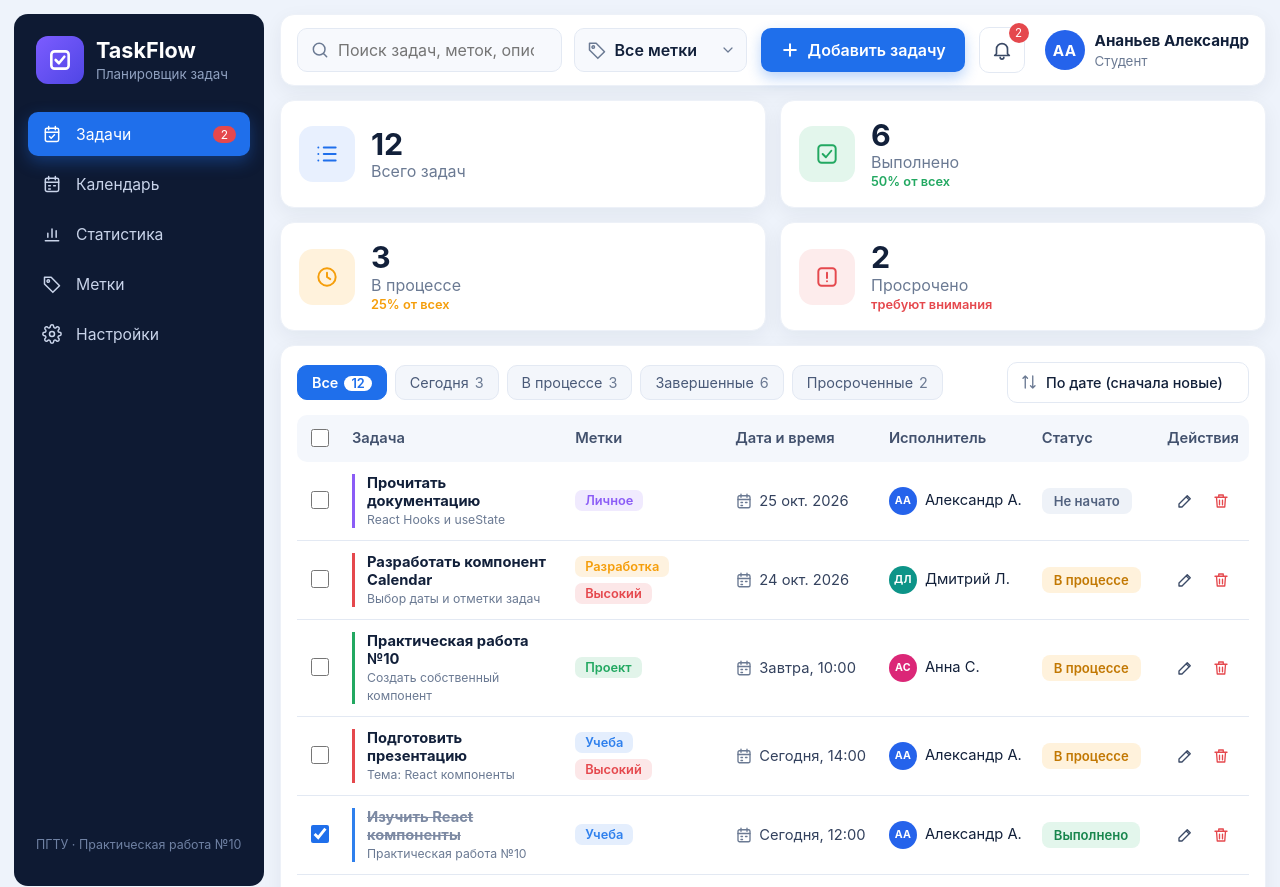
it: App › загружает задачи, добавляет и удаляет задачу
Check: the text "Подготовить презентацию" is shown, box [367,729,467,765]
Click the button "Добавить задачу" at (863, 50), box [760,28,965,72]
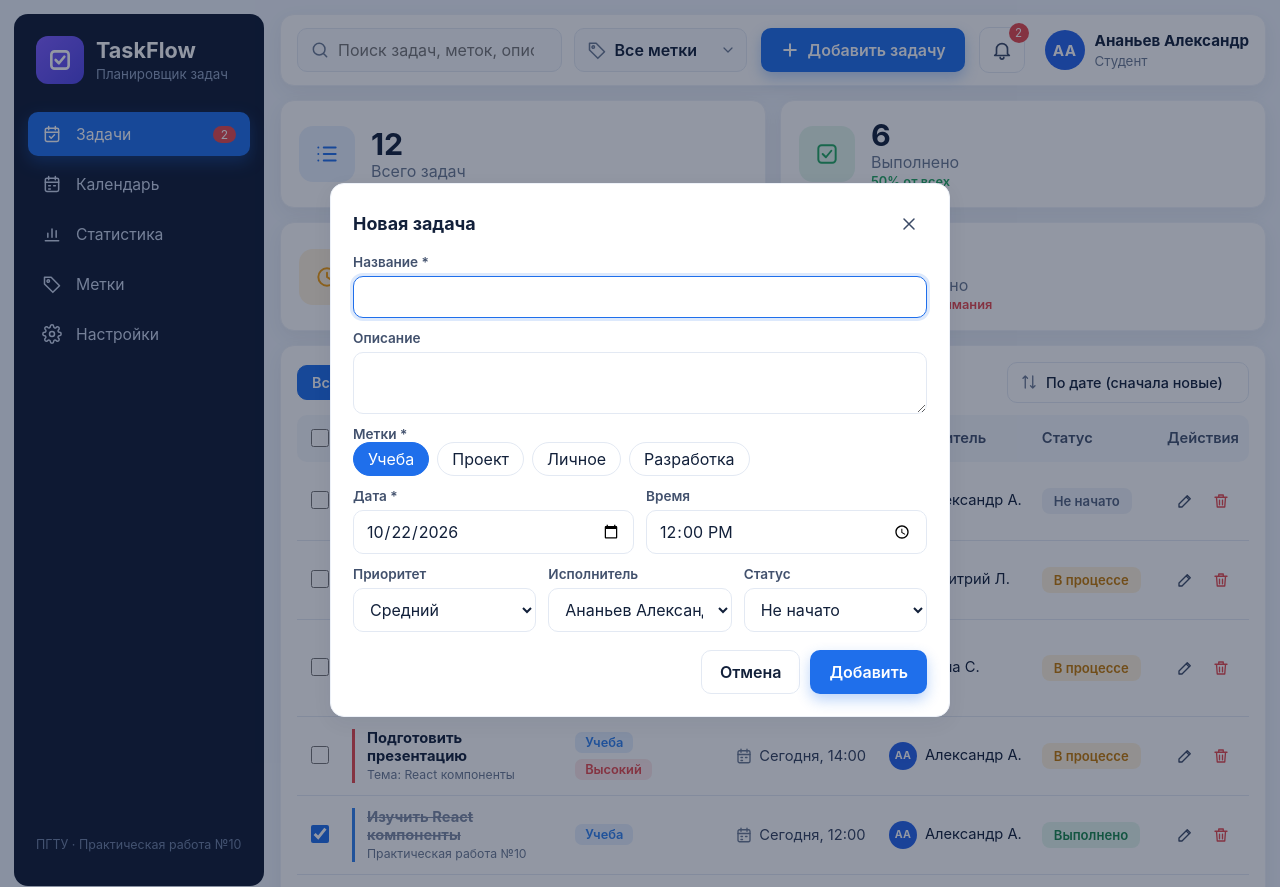
Click the button "Добавить" at (869, 672), box [810,650,927,694]
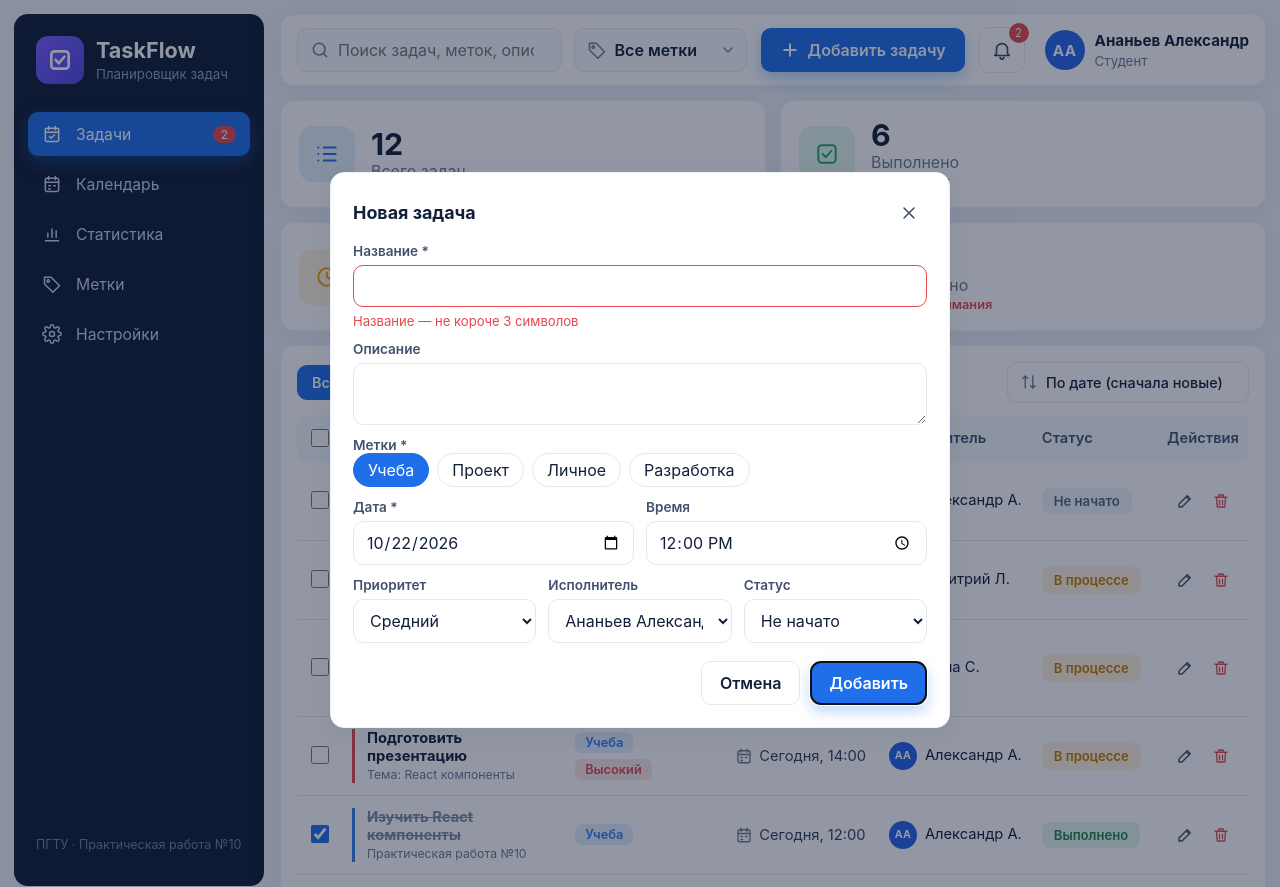
Check: the text "Название — не короче 3 символов" is shown, box [353,313,578,329]
Type "Сдать практическую работу №10" into the field labelled "Название * Название — не короче 3 символов" at (640, 286), box [353,265,927,307]
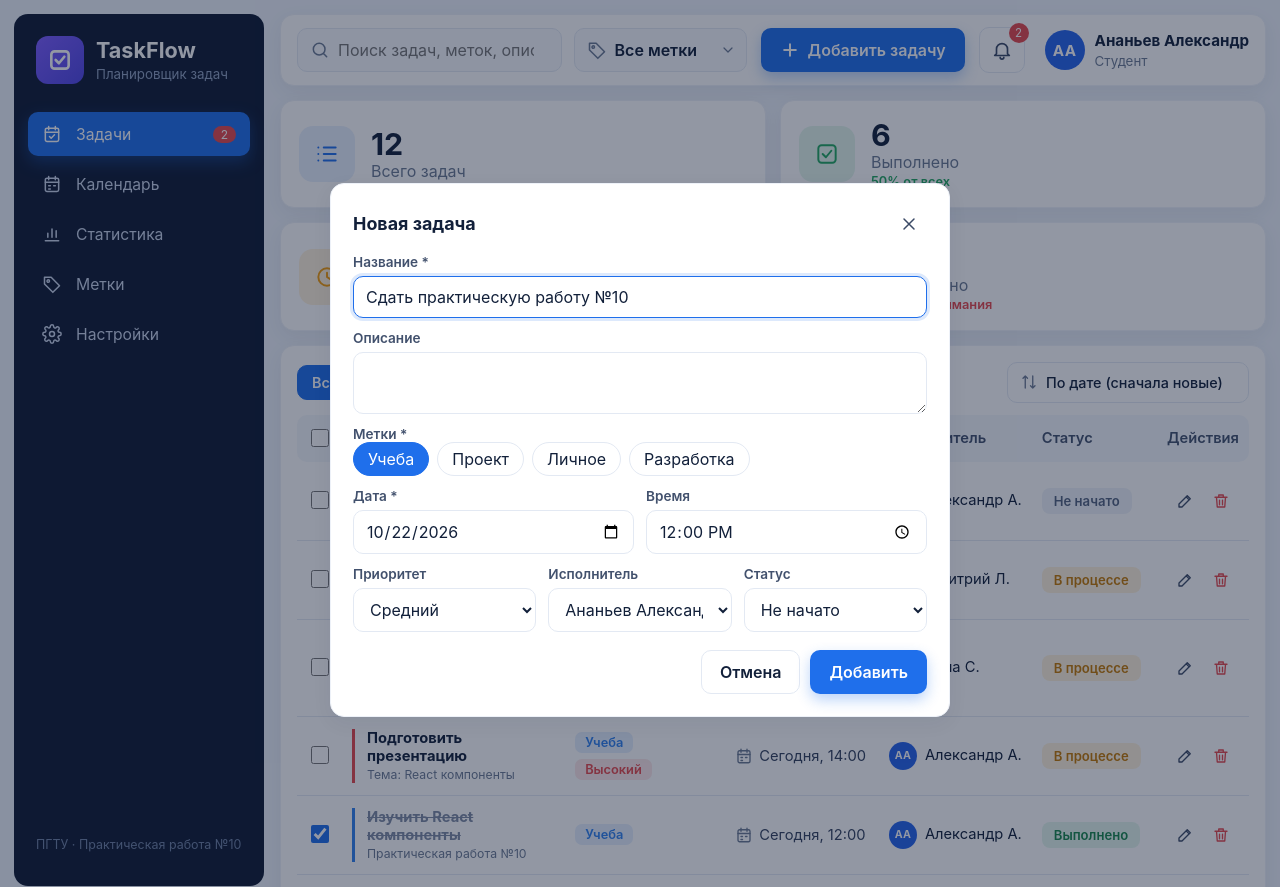
Click the button "Добавить" at (869, 672), box [810,650,927,694]
(page scrolled)
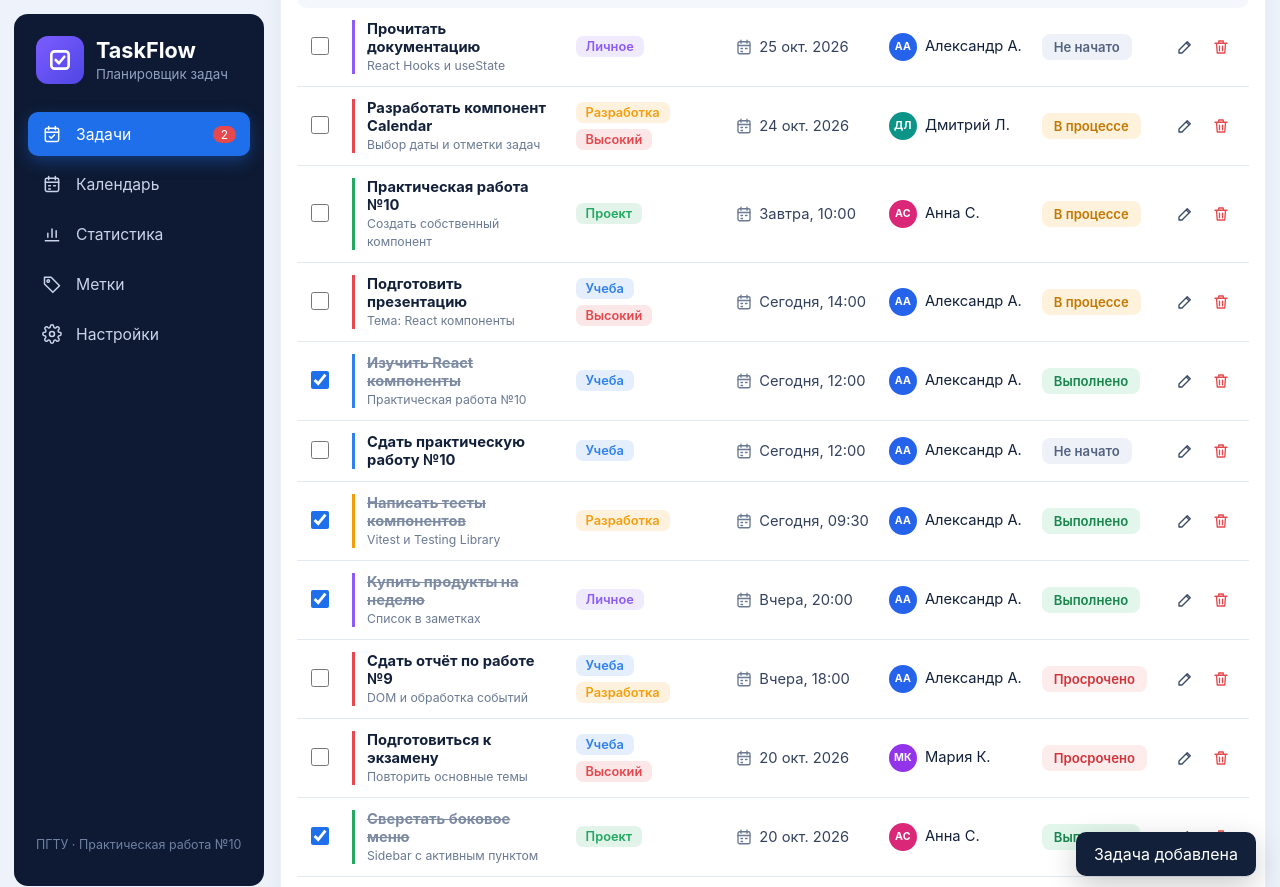
Check: the dialog is gone
Check: the text "Сдать практическую работу №10" is shown, box [367,433,525,469]
Click the button named "Удалить «Сдать практическую работу №10»" at (1221, 451), box [1203,433,1239,469]
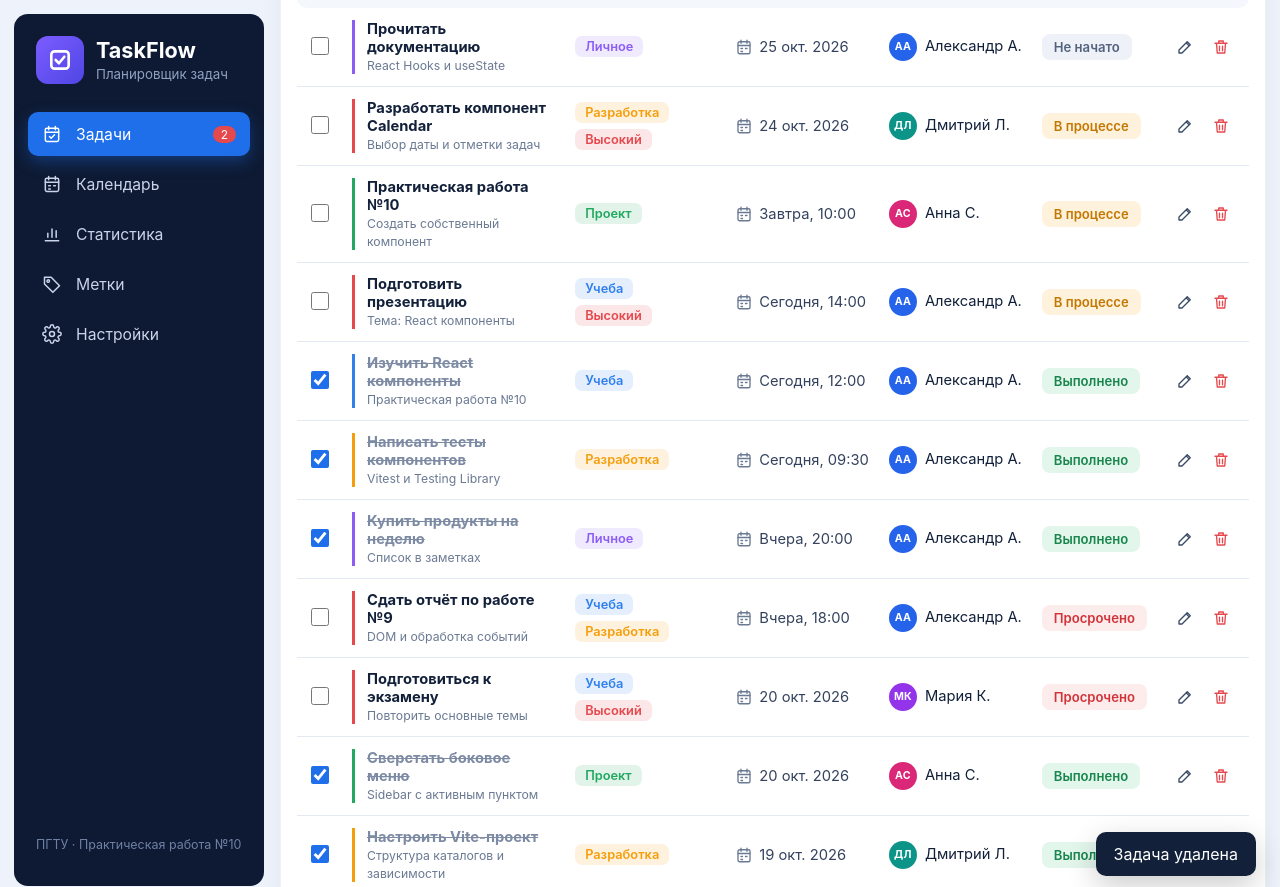
Check: the text "Сдать практическую работу №10" is gone
